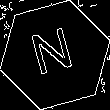N_S: (29, 26, 81, 84)
